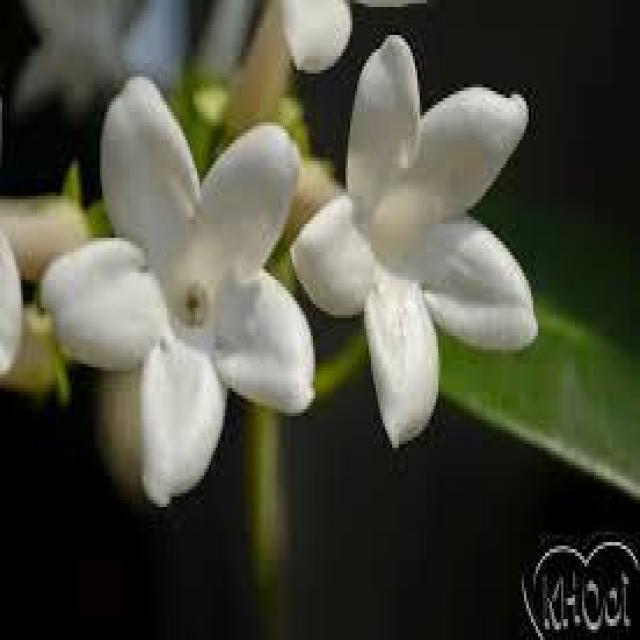organic waste: (48, 82, 335, 523), (308, 35, 570, 462)
